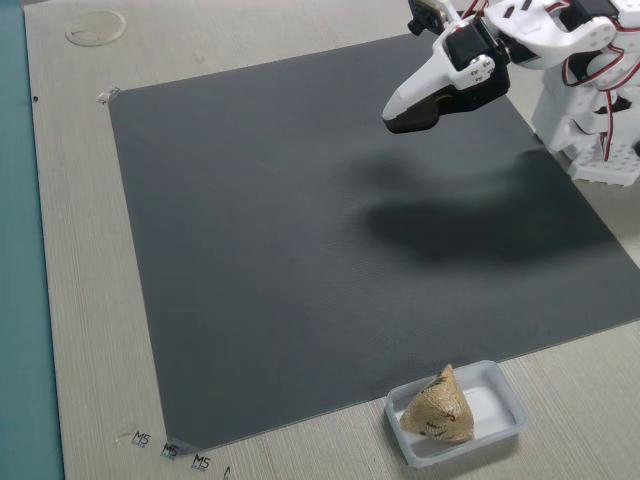gripper: (387, 6, 527, 130)
